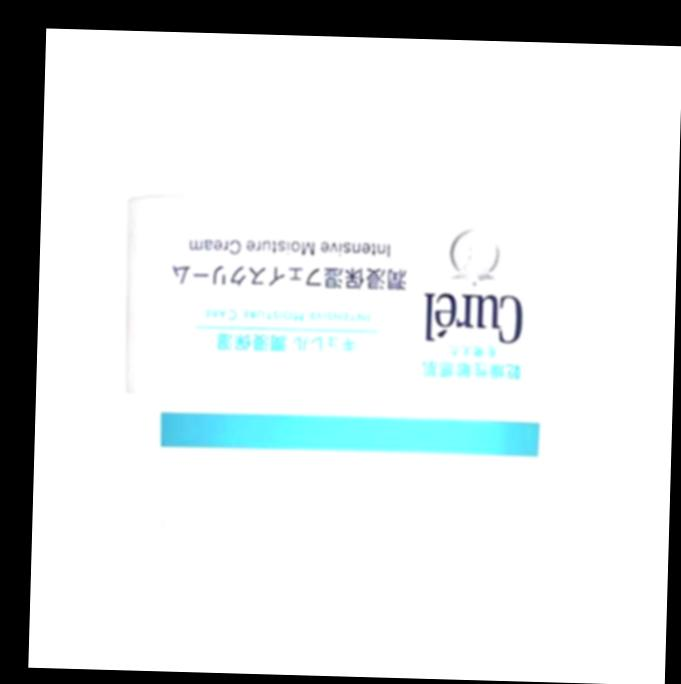cosmetic: (116, 194, 593, 546)
